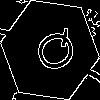Q: (25, 25, 81, 79)
